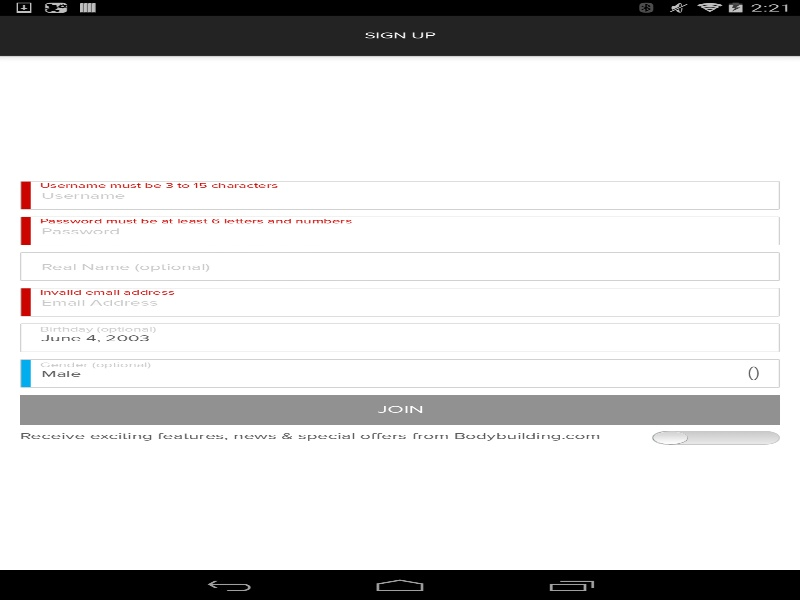Button: (20, 394, 780, 424)
Input: (21, 181, 778, 209), (21, 252, 778, 280), (21, 359, 778, 387), (21, 217, 778, 244), (21, 288, 778, 315), (21, 324, 778, 351)
